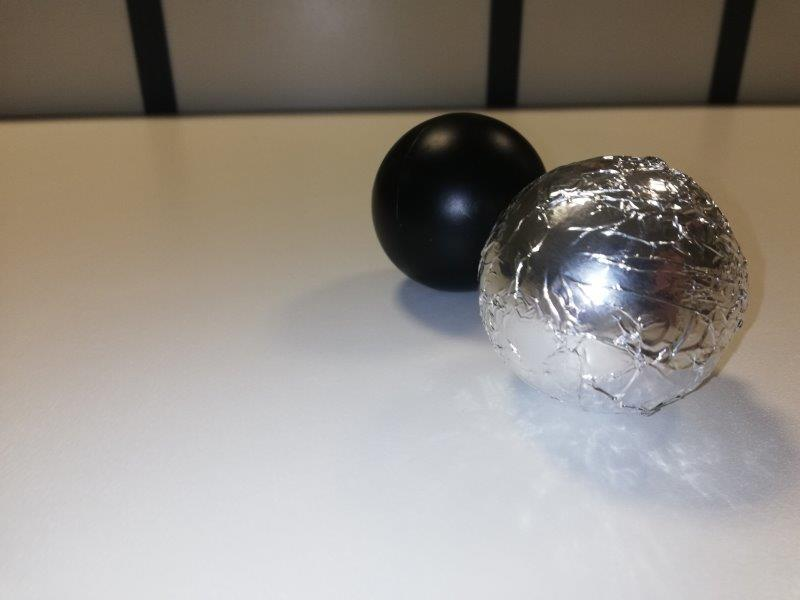bianca: (478, 157, 746, 415)
nera: (371, 111, 548, 297)
